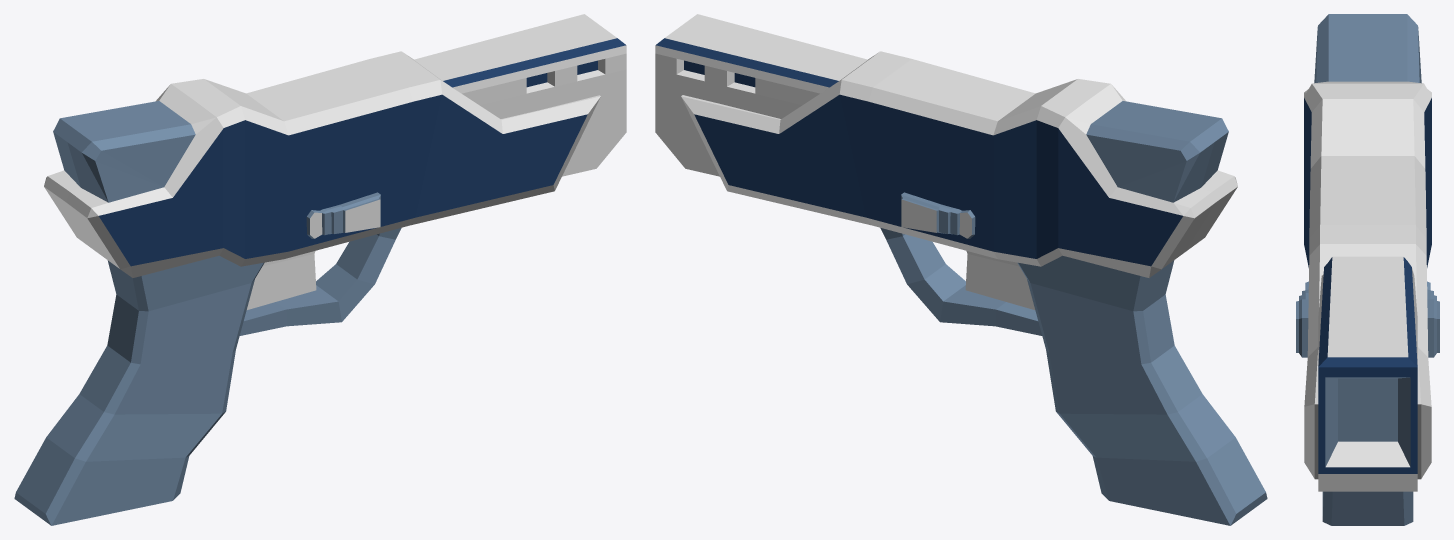
File: Pistol_02_Blue_Team.fbx
The picture shows the model from 3 angles, left to right: view 1: azimuth 30°, elevation 25°; view 2: azimuth 150°, elevation 25°; view 3: azimuth 270°, elevation 25°; orthographic projection. The views are drawn at different scales.
Visible parts, largest first — view 1: Pistol_02_Blue_Team; view 2: Pistol_02_Blue_Team; view 3: Pistol_02_Blue_Team.
Boxes of the visible parts, x1=… form: Pistol_02_Blue_Team: x1=14, y1=14, x2=626, y2=525; Pistol_02_Blue_Team: x1=655, y1=14, x2=1267, y2=525; Pistol_02_Blue_Team: x1=1296, y1=14, x2=1439, y2=525.
Size of the model in its own units: 29.65 by 18.63 by 5.25.
Materials: 1 (1 with a texture image).
